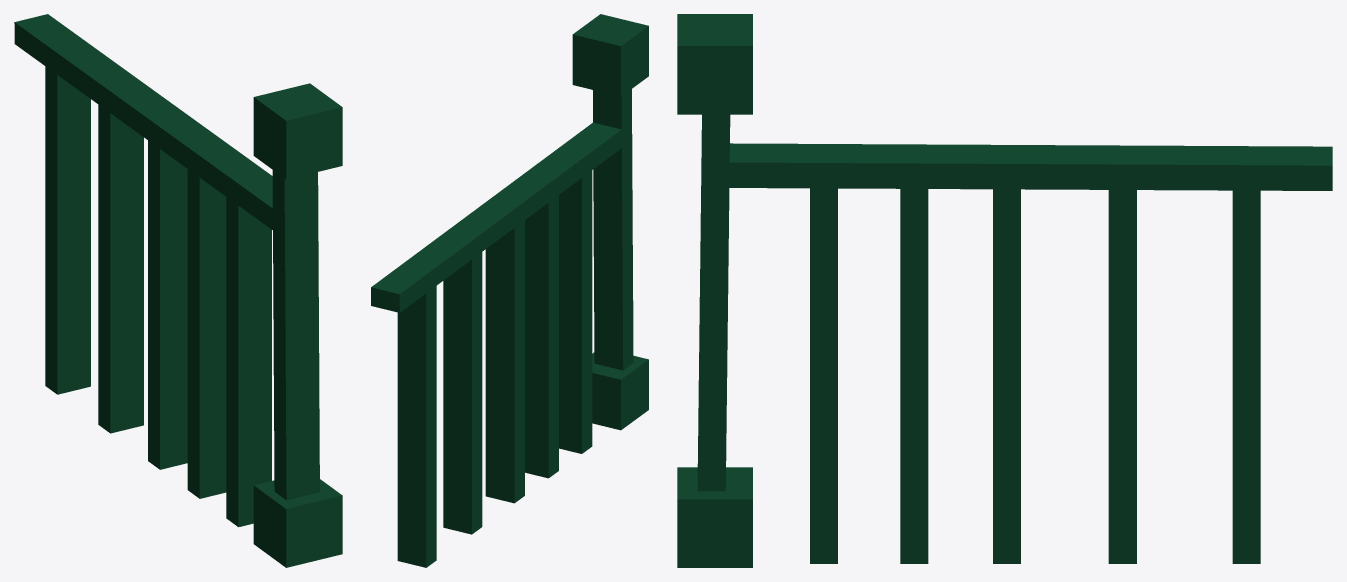
File: barandal.obj
3 views of the same model, side by side, from view 1: azimuth 30°, elevation 25°; view 2: azimuth 150°, elevation 25°; view 3: azimuth 270°, elevation 25° (orthographic). The views are drawn at different scales.
Parts seen in each view (by area): view 1: pCube19; view 2: pCube19; view 3: pCube19.
Part boxes in pixels (<box>): pCube19: <box>14,14,342,567</box>; pCube19: <box>371,14,648,567</box>; pCube19: <box>677,14,1332,567</box>.
Size of the model in its own units: 0.6277 by 4.8 by 5.43.
1 material, 1 textured.
